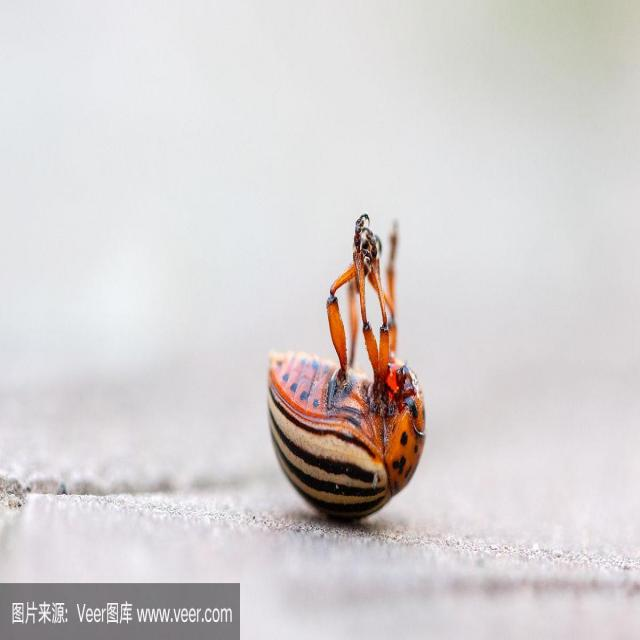ShuCaiHuaBanChong-Grown-: (278, 273, 459, 564)
